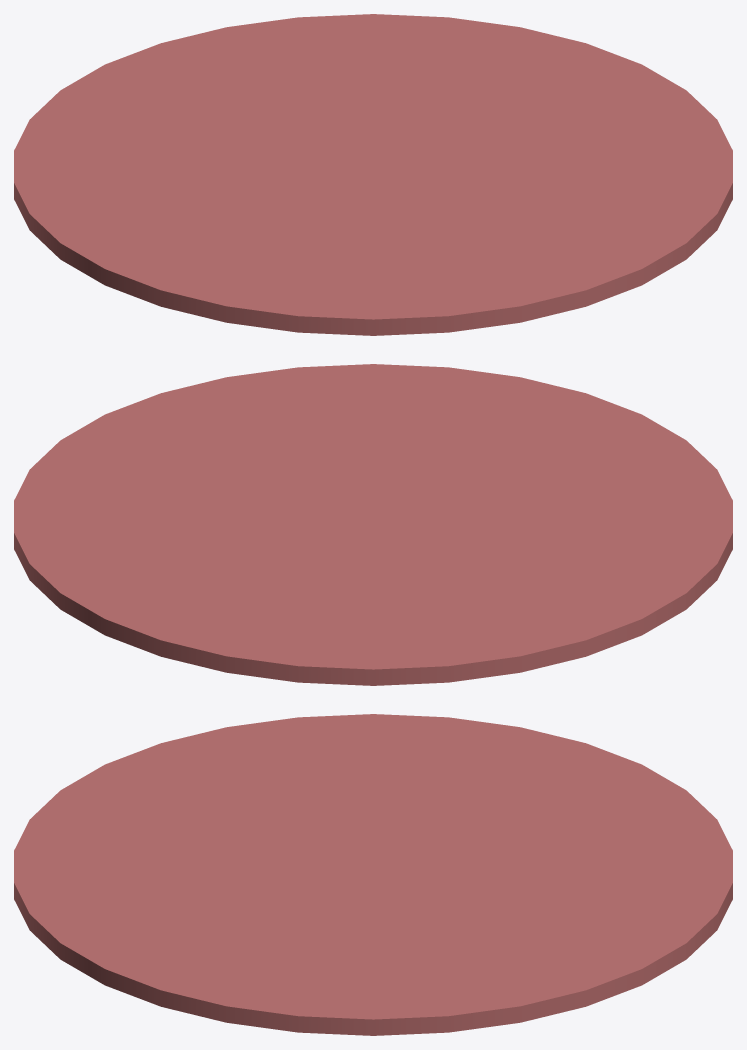
Rendered from Disc_2.fbx.
3 views of the same model, one above another, from view 1: azimuth 30°, elevation 25°; view 2: azimuth 150°, elevation 25°; view 3: azimuth 270°, elevation 25° (orthographic).
Parts seen in each view (by area): view 1: pCylinder7; view 2: pCylinder7; view 3: pCylinder7.
Part boxes in pixels (x1,y1,x2,y2): pCylinder7: (14, 14, 732, 335); pCylinder7: (14, 364, 732, 685); pCylinder7: (14, 714, 732, 1035).
Bounding box in the file's own units: 5.9 × 0.1478 × 5.87.
